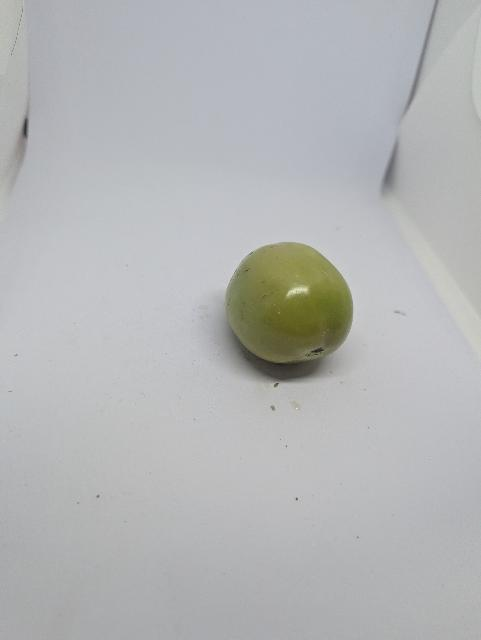green: (221, 239, 357, 367)
